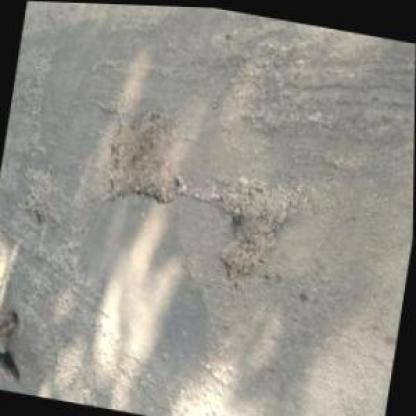pothole: (100, 98, 194, 208), (209, 171, 304, 278)
